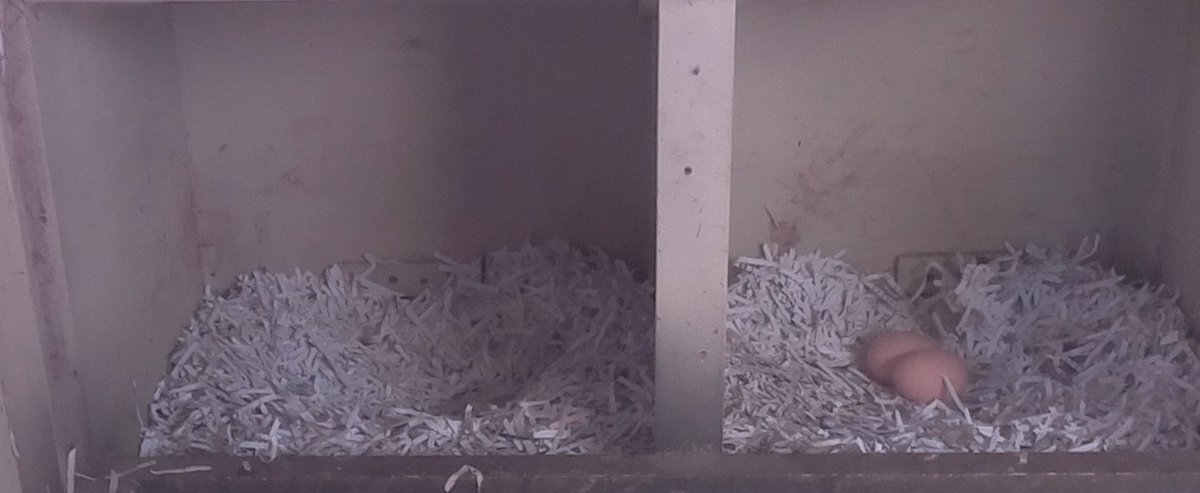egg: (885, 348, 972, 405), (862, 328, 948, 382)
